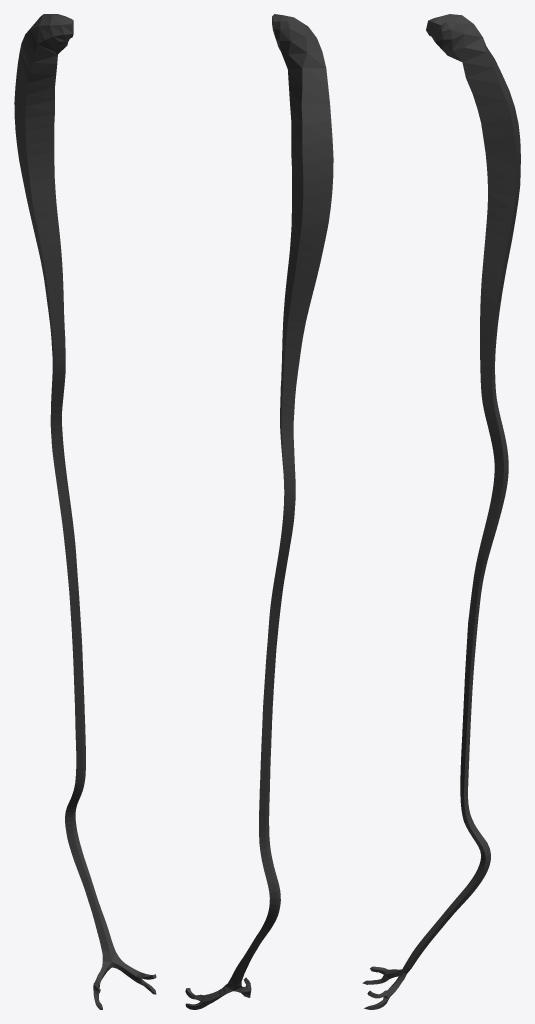
Rendered from SDF.glb.
3 views of the same model, side by side, from view 1: azimuth 30°, elevation 25°; view 2: azimuth 210°, elevation 25°; view 3: azimuth 270°, elevation 25° (orthographic). The views are drawn at different scales.
Parts seen in each view (by area): view 1: SDF; view 2: SDF; view 3: SDF.
Part boxes in pixels (x1,y1,x2,y2): SDF: [14, 14, 156, 1009]; SDF: [185, 14, 333, 1009]; SDF: [362, 14, 520, 1009].
Bounding box in the file's own units: 14.26 × 169 × 25.05.
Materials: 1 (1 with a texture image).
